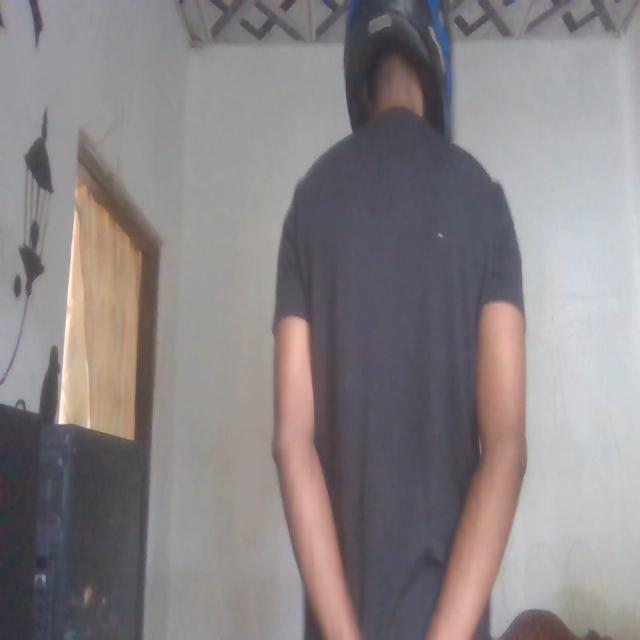Helmet_Wearer: (316, 0, 458, 152)
Person: (275, 0, 535, 640)
